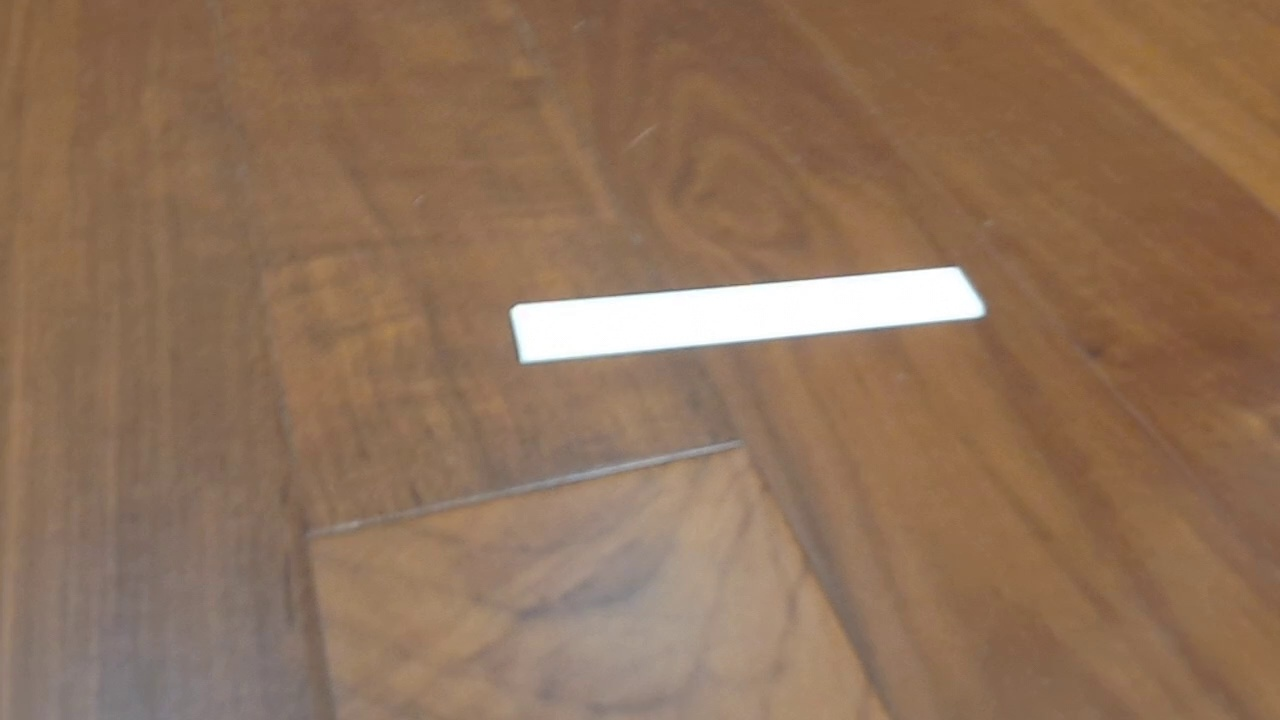ruler: (507, 264, 988, 365)
